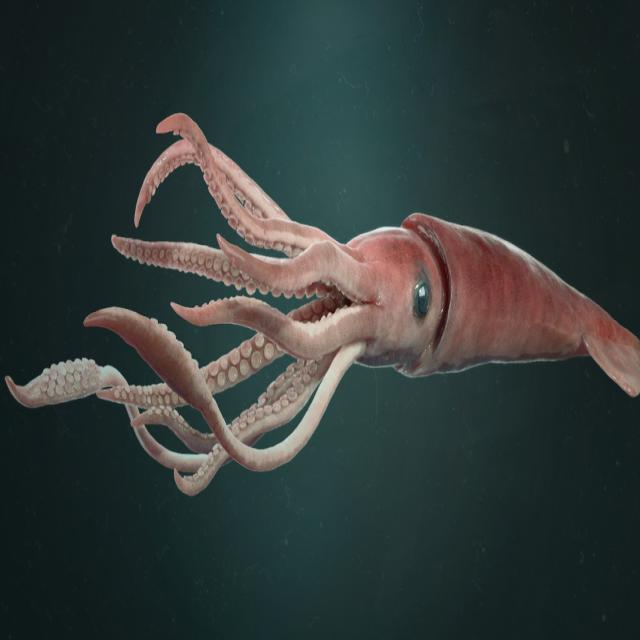SQUID: (0, 73, 640, 523)
